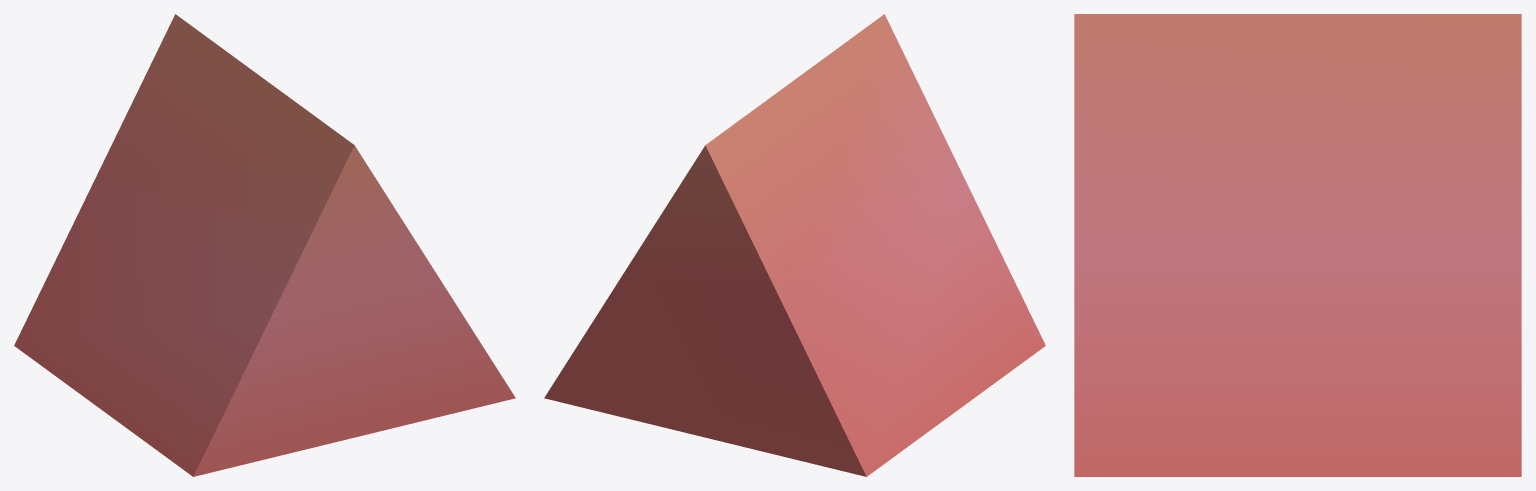
The model's file is TriangleEQ.fbx.
3 views of the same model, side by side, from view 1: azimuth 30°, elevation 25°; view 2: azimuth 150°, elevation 25°; view 3: azimuth 270°, elevation 25° (orthographic). The views are drawn at different scales.
Visible parts, largest first — view 1: TriangleEQ; view 2: TriangleEQ; view 3: TriangleEQ.
Part boxes in pixels (box(x1,y1,x2,y2)): TriangleEQ: box(14, 14, 515, 476); TriangleEQ: box(544, 14, 1045, 476); TriangleEQ: box(1074, 14, 1521, 476).
Size of the model in its own units: 104 by 90 by 100.
